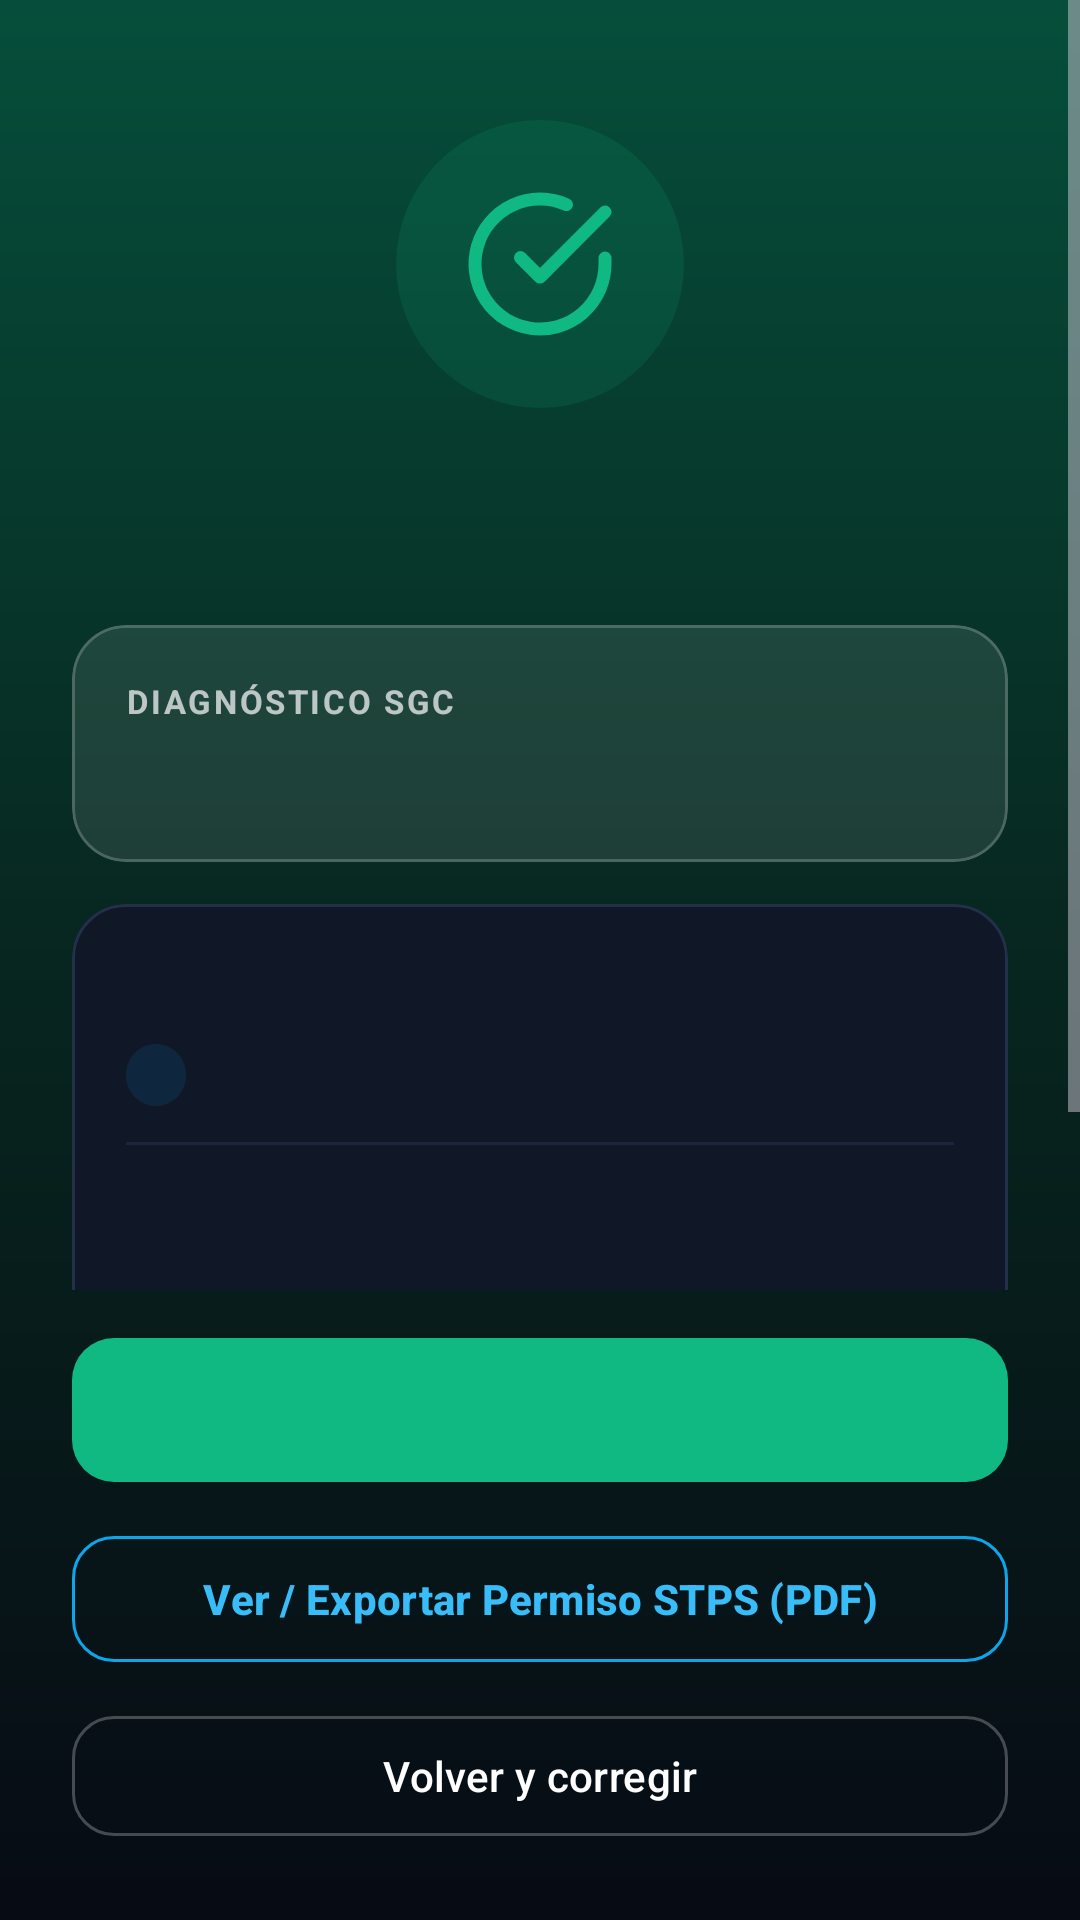

Point at icon controls on the screen. Image size 1080px x 1920px, points as point (x, y).
Resultado: point (540, 264)
